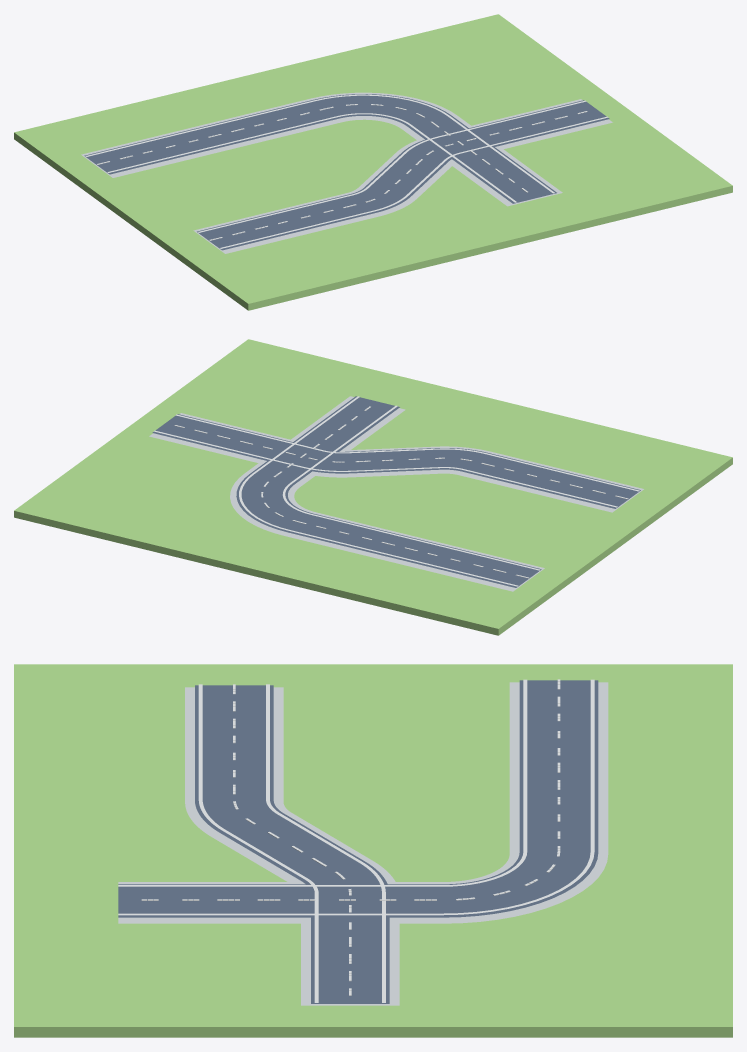
The model's file is road-straight-rounded.glb.
3 renders of one model, top to bottom at view 1: azimuth 30°, elevation 25°; view 2: azimuth 150°, elevation 25°; view 3: azimuth 270°, elevation 25°, orthographic. The views are drawn at different scales.
Bounding box in the file's own units: 74 × 1.45 × 62.
